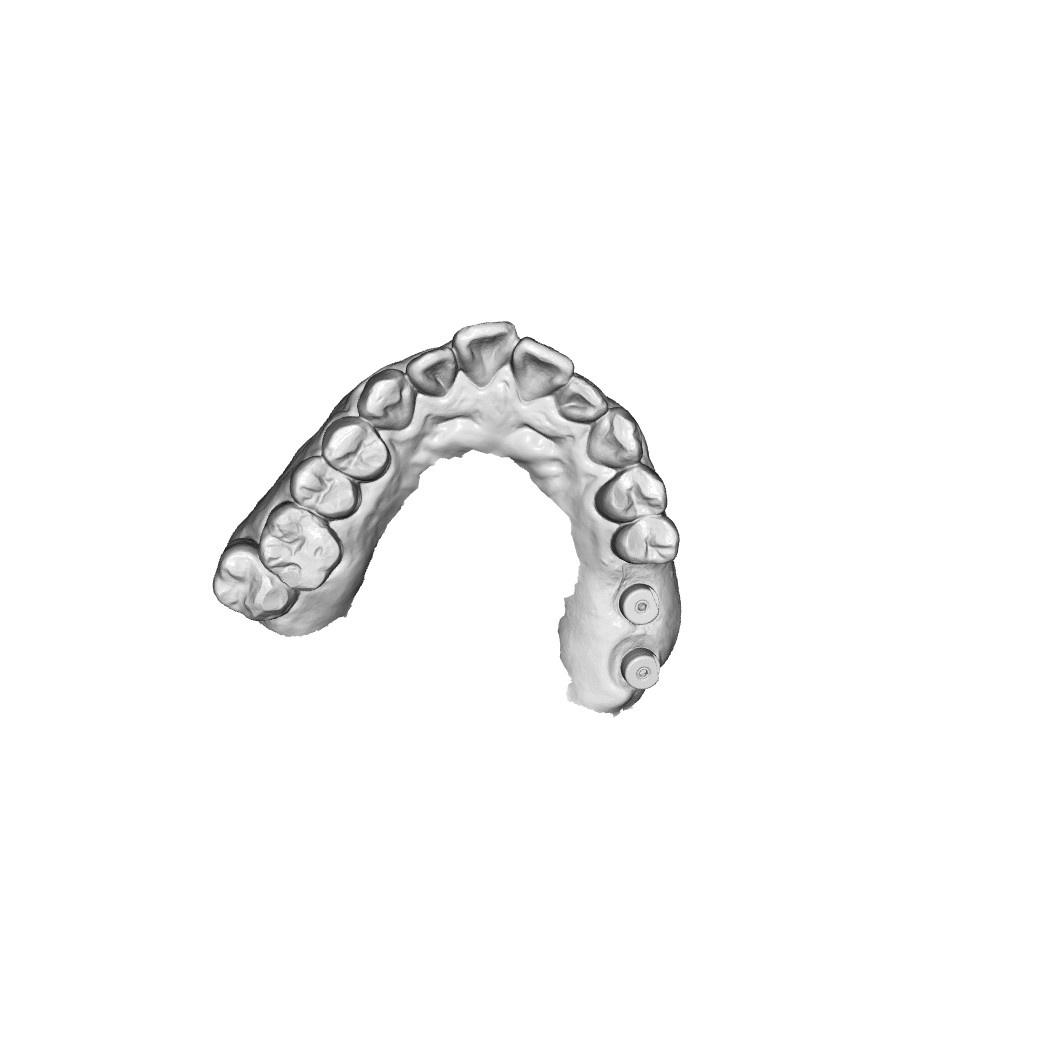canine: (582, 402, 646, 471), (356, 366, 420, 429)
implant: (613, 579, 666, 627), (620, 647, 663, 692)
incisor: (457, 320, 527, 387), (510, 339, 574, 402), (555, 374, 606, 427), (409, 346, 456, 398)
molar: (261, 502, 341, 593), (212, 546, 302, 622)
premolar: (592, 459, 664, 523), (323, 418, 387, 479), (610, 514, 682, 567), (292, 458, 352, 515)
